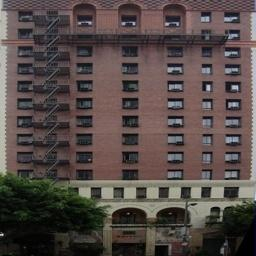building: (7, 1, 256, 256)
